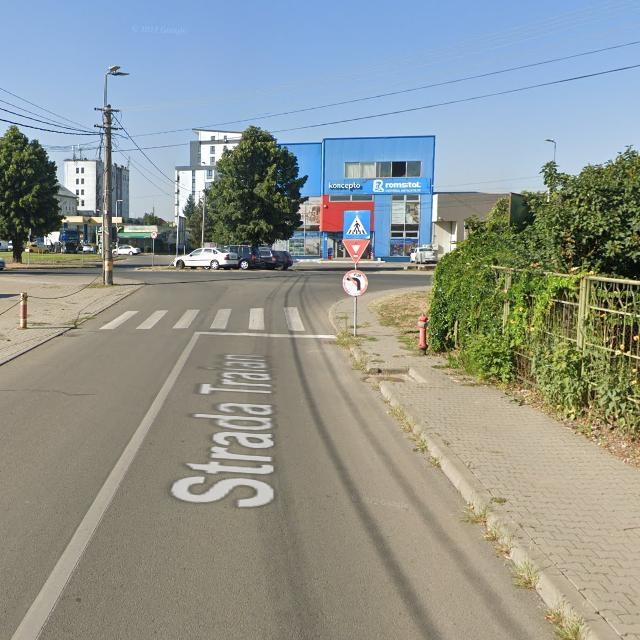info_crosswalk: (343, 211, 370, 239)
prio_give_way: (341, 238, 370, 263)
